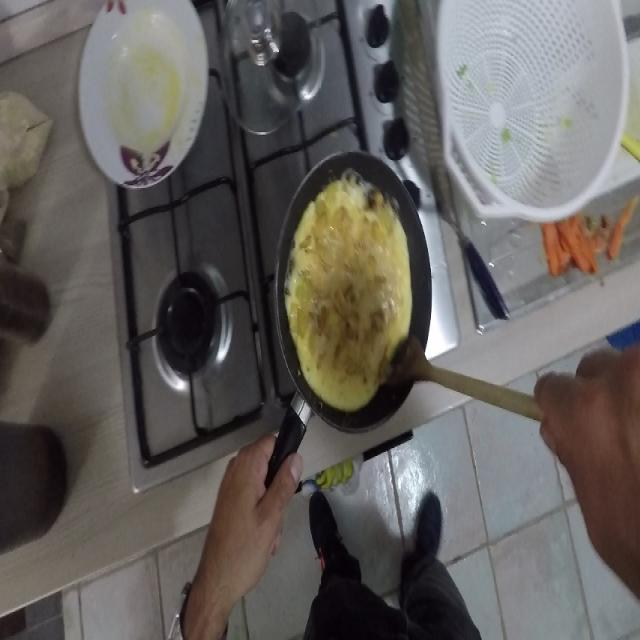hob: (115, 202, 261, 446)
left hand: (214, 447, 296, 622)
lid: (218, 0, 325, 128)
pan: (279, 140, 430, 512)
plate: (72, 0, 208, 189)
wooden spoon: (386, 330, 540, 430)
